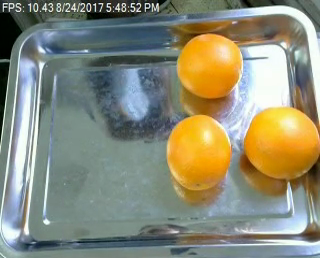Orange: (244, 105, 320, 181), (166, 113, 230, 190), (175, 33, 242, 99)
